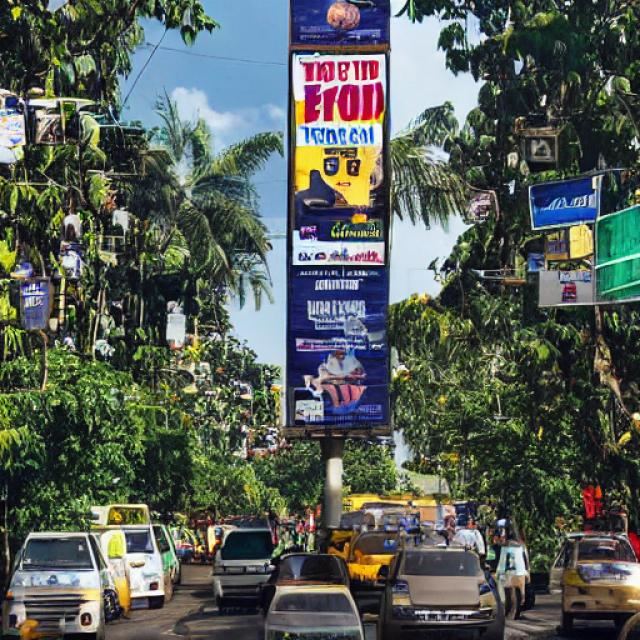Billboard: (285, 0, 393, 438)
